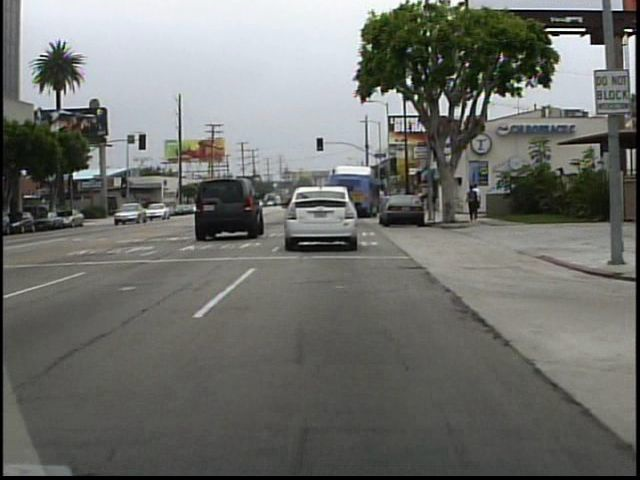person: (465, 183, 481, 225), (473, 182, 484, 221)
